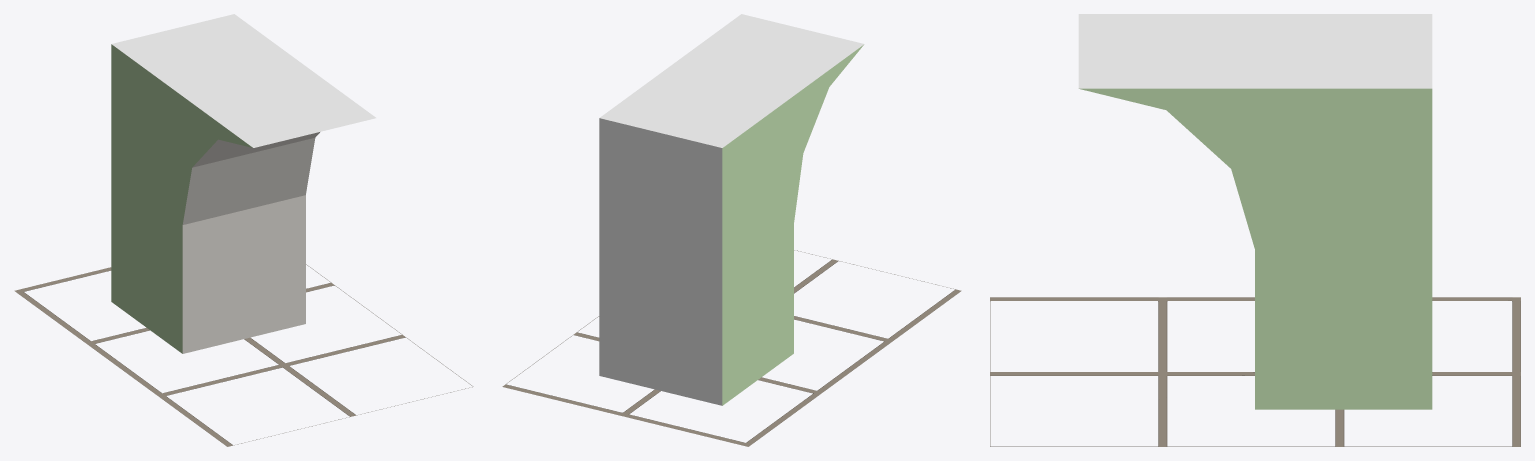
File: Wall_Straight_Basic_1x2_Top.glb
3 views of the same model, side by side, from view 1: azimuth 30°, elevation 25°; view 2: azimuth 150°, elevation 25°; view 3: azimuth 270°, elevation 25° (orthographic). The views are drawn at different scales.
Visible parts, largest first — view 1: Wall_Straight_Basic_1x2_Top, Floor; view 2: Wall_Straight_Basic_1x2_Top, Floor; view 3: Wall_Straight_Basic_1x2_Top, Floor.
Part boxes in pixels (x1=…): Wall_Straight_Basic_1x2_Top: x1=111, y1=14, x2=375, y2=353; Floor: x1=14, y1=264, x2=473, y2=446; Wall_Straight_Basic_1x2_Top: x1=599, y1=14, x2=864, y2=405; Floor: x1=502, y1=250, x2=961, y2=446; Wall_Straight_Basic_1x2_Top: x1=1078, y1=14, x2=1432, y2=409; Floor: x1=990, y1=297, x2=1520, y2=446.
Size of the model in its own units: 200 by 200 by 300.
Materials: 5 (1 with a texture image).
